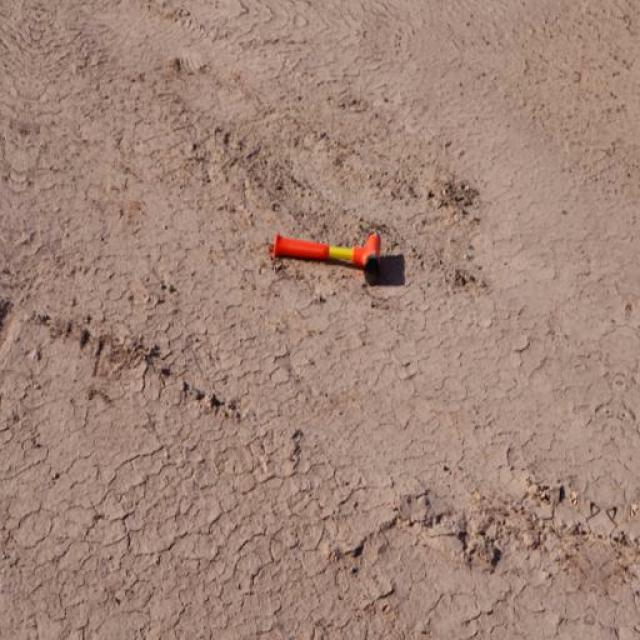mallet: (270, 230, 384, 272)
